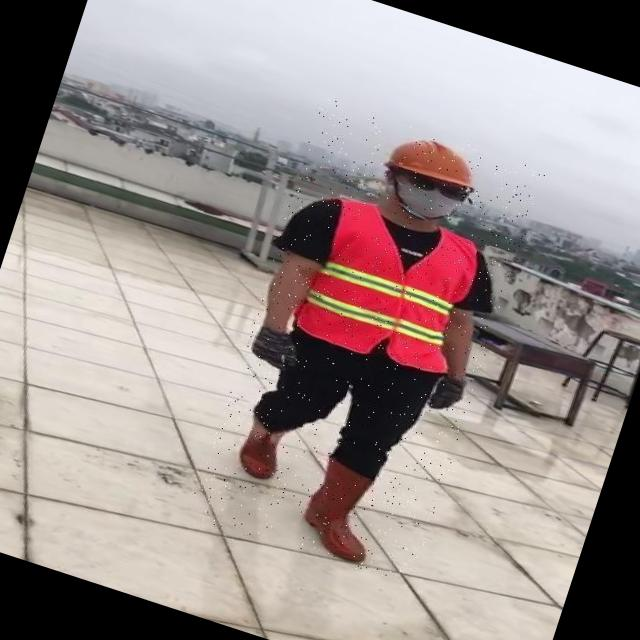hard_hat: (383, 124, 480, 192)
safety_vest: (284, 192, 487, 379)
vehicle: (186, 97, 546, 589)
work_boots: (294, 452, 393, 566), (231, 412, 294, 485)
